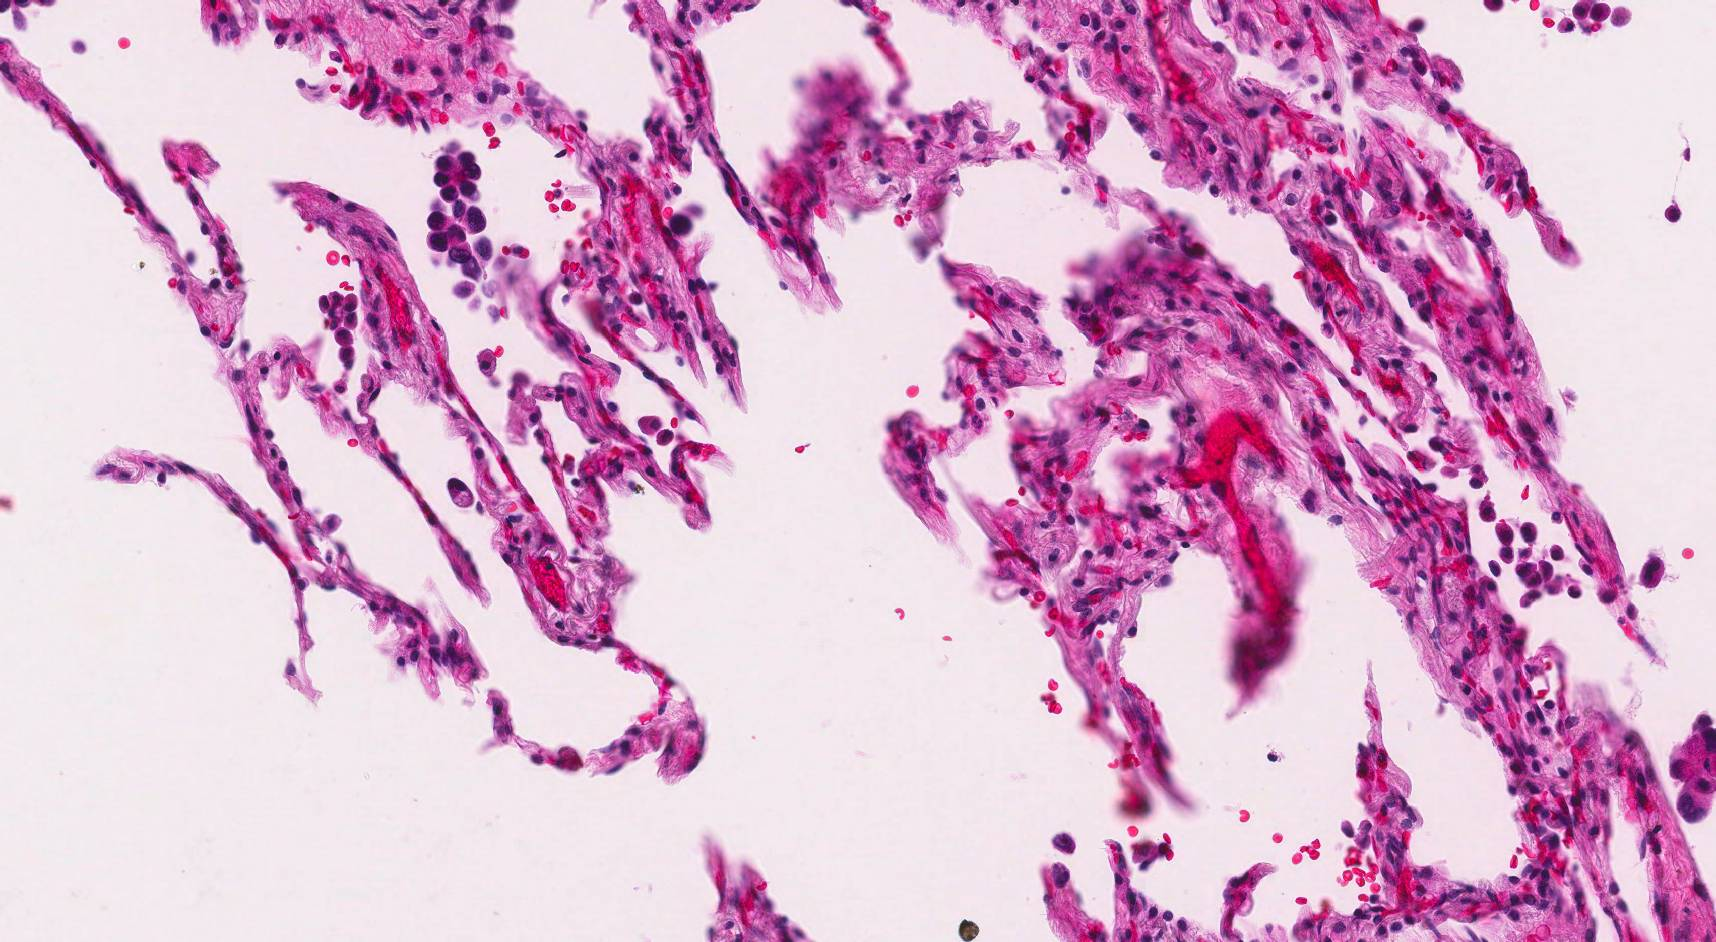stas: (423, 141, 494, 279)
